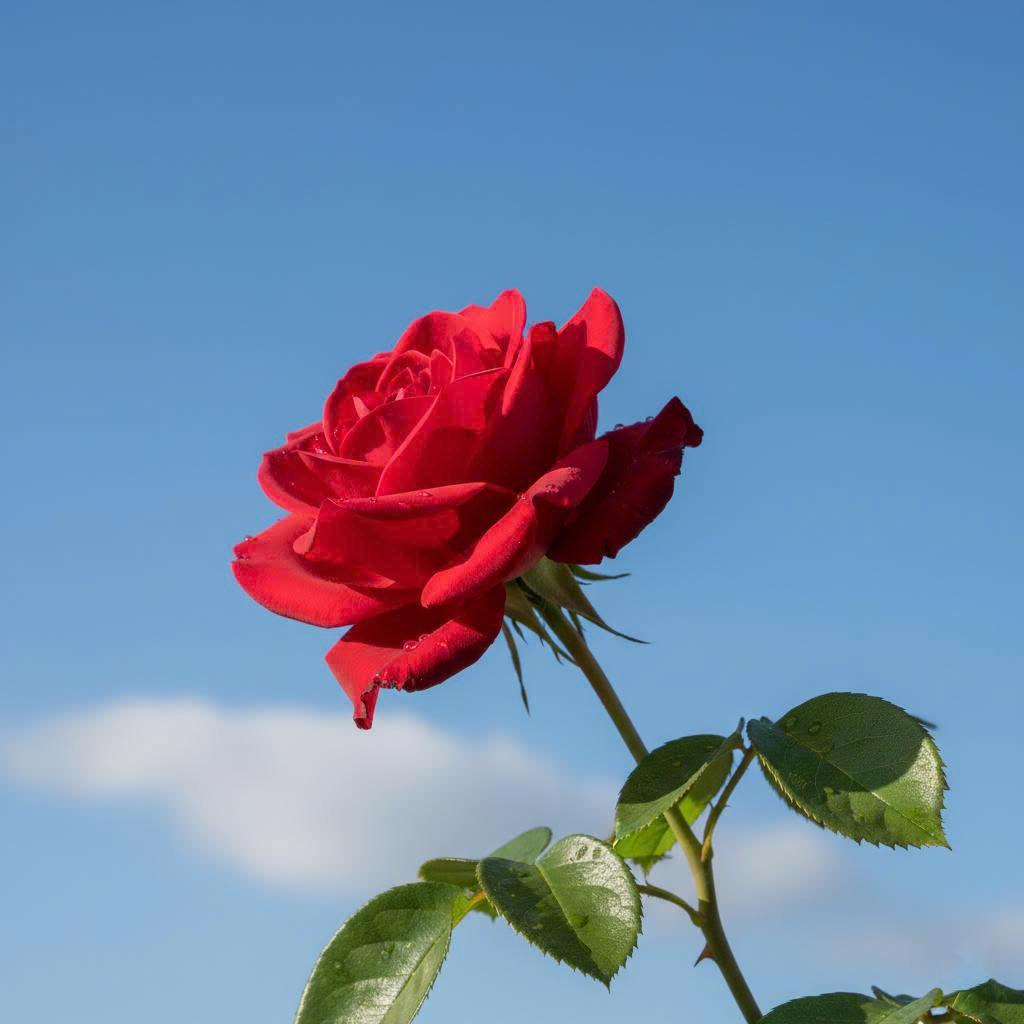rose: (229, 283, 703, 731)
